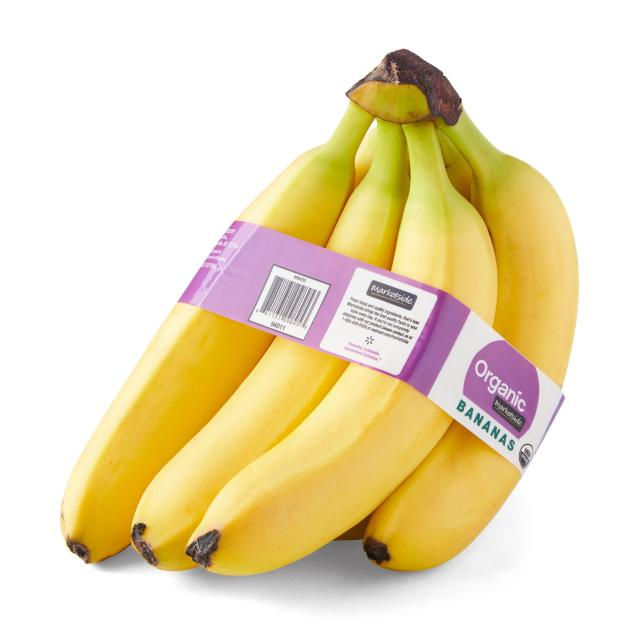banana: (45, 33, 587, 589)
